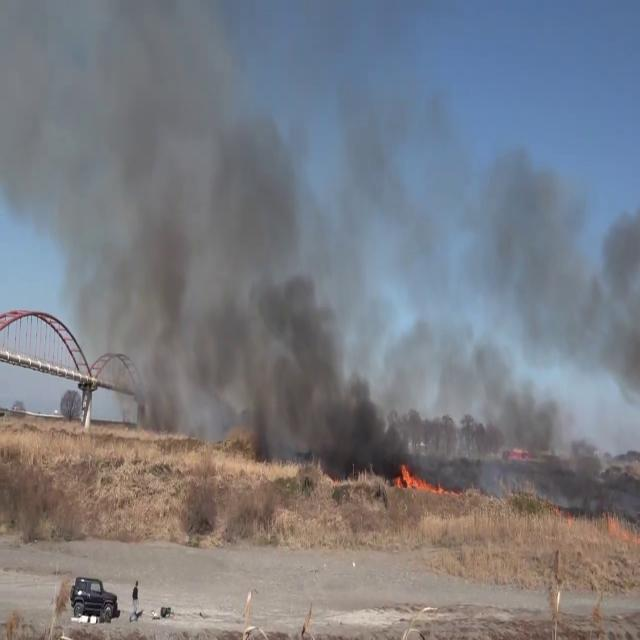Fire: (396, 458, 443, 495)
Smoke: (0, 1, 377, 476), (444, 134, 640, 476)
